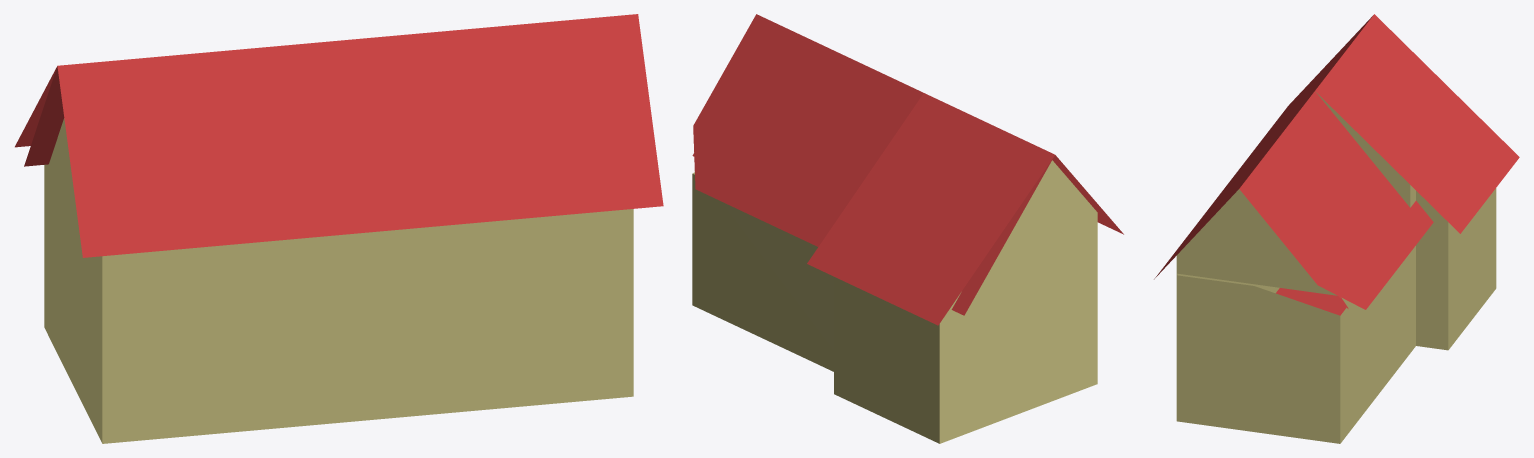
3 views of the same model, side by side, from view 1: azimuth 30°, elevation 25°; view 2: azimuth 150°, elevation 25°; view 3: azimuth 270°, elevation 25° (orthographic). The views are drawn at different scales.
Size of the model in its own units: 25.12 by 19.69 by 14.78.
